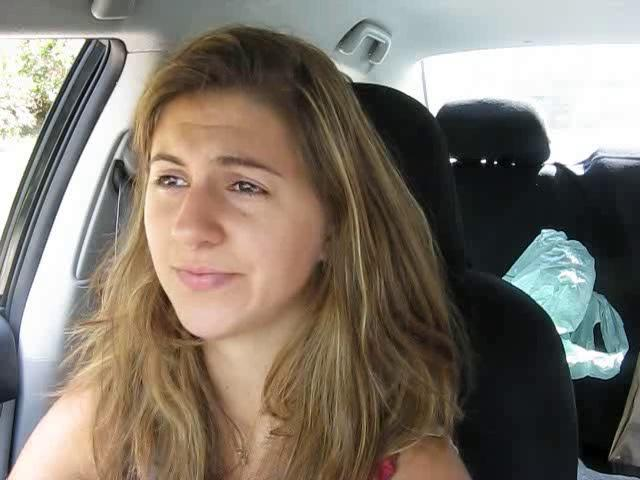close_eyeL: (144, 161, 199, 202)
close_eyeR: (217, 165, 285, 210)
no_yawn: (154, 253, 257, 304)
